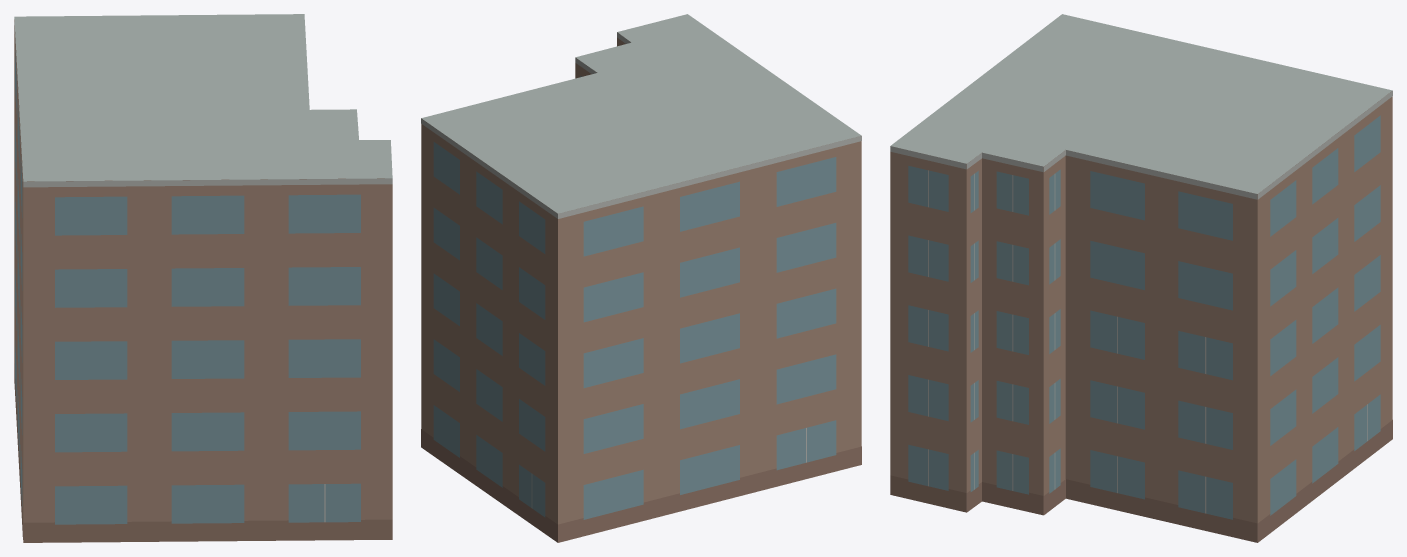
The model's file is survey-upis-32999446.glb.
The picture shows the model from 3 angles, left to right: view 1: azimuth 30°, elevation 25°; view 2: azimuth 150°, elevation 25°; view 3: azimuth 270°, elevation 25°; orthographic projection. The views are drawn at different scales.
Visible parts, largest first — view 1: survey-upis-32999446.tmp; view 2: survey-upis-32999446.tmp; view 3: survey-upis-32999446.tmp.
Boxes of the visible parts, x1,y1,x2,y2 form: survey-upis-32999446.tmp: [14, 14, 392, 542]; survey-upis-32999446.tmp: [421, 14, 861, 542]; survey-upis-32999446.tmp: [890, 14, 1392, 542].
Bounding box in the file's own units: 16.62 × 15 × 19.59.
